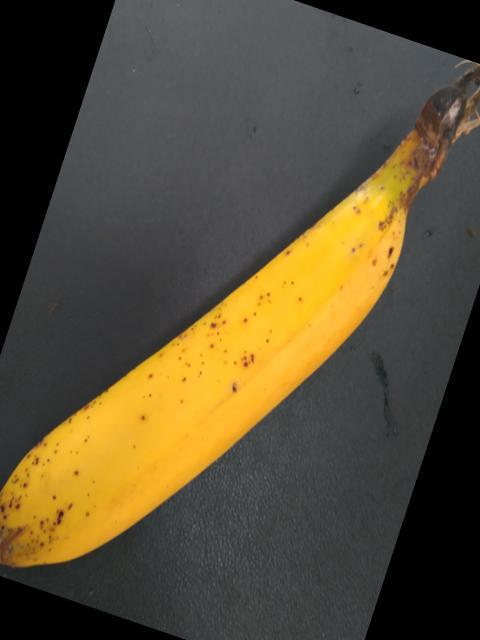ripe: (0, 190, 421, 579)
